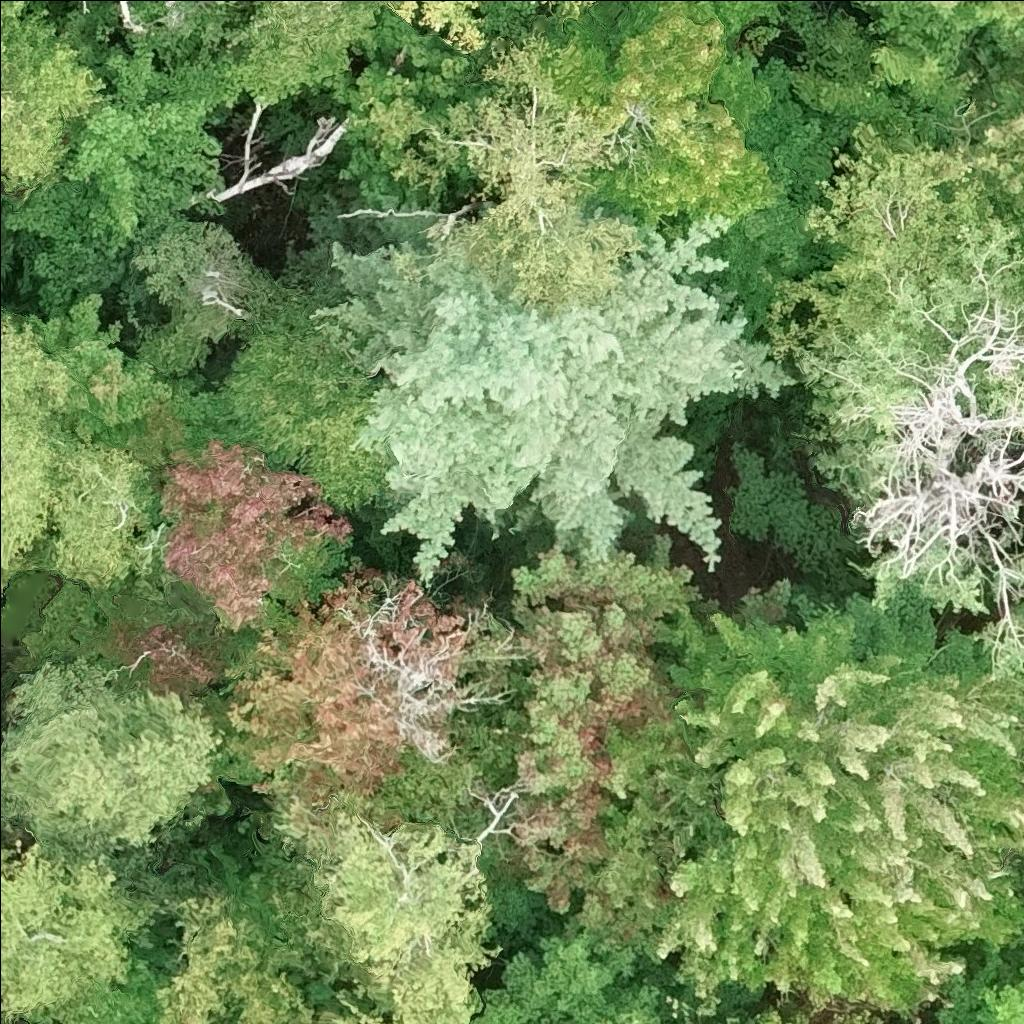crown: (599, 585, 1023, 1023), (309, 207, 793, 588), (797, 225, 1023, 680), (227, 548, 524, 806), (501, 547, 706, 908), (401, 38, 640, 318), (768, 128, 997, 368), (543, 0, 790, 221), (277, 799, 502, 1023), (0, 660, 222, 867), (194, 302, 400, 508), (155, 440, 349, 634), (796, 71, 1023, 226), (0, 815, 159, 1020), (34, 295, 209, 470), (0, 315, 75, 590), (101, 585, 251, 721), (67, 103, 216, 238), (320, 60, 464, 198), (852, 0, 1023, 109), (0, 0, 102, 180), (149, 901, 294, 1023), (730, 444, 866, 574), (40, 433, 157, 584), (233, 0, 393, 99), (392, 0, 508, 52), (942, 961, 1023, 1023), (117, 0, 158, 33), (728, 1014, 811, 1023), (534, 0, 594, 9), (843, 1013, 872, 1023), (78, 0, 96, 2), (1022, 74, 1023, 82)
